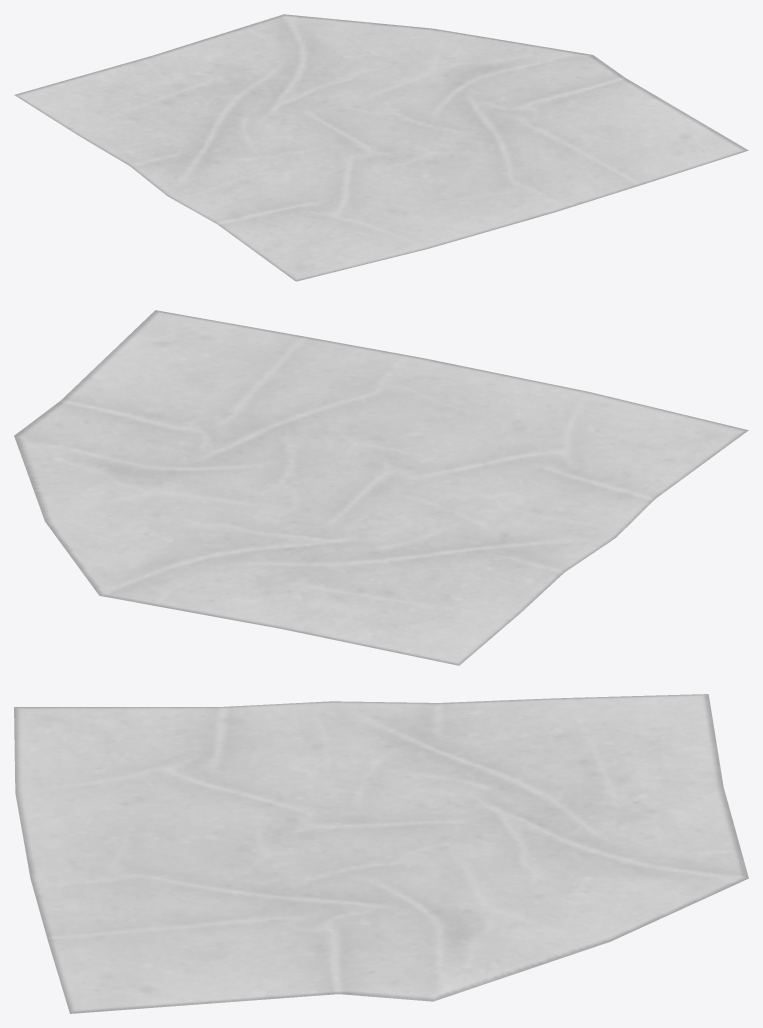
File: Pfb_Canvas_Ground_2x2__6.fbx
3 renders of one model, top to bottom at view 1: azimuth 30°, elevation 25°; view 2: azimuth 150°, elevation 25°; view 3: azimuth 270°, elevation 25°, orthographic. The views are drawn at different scales.
Visible parts, largest first — view 1: Mat_Canvas_Ground_Dark; view 2: Mat_Canvas_Ground_Dark; view 3: Mat_Canvas_Ground_Dark.
Boxes of the visible parts, x1,y1,x2,y2 form: Mat_Canvas_Ground_Dark: (14,14,748,281); Mat_Canvas_Ground_Dark: (14,310,748,665); Mat_Canvas_Ground_Dark: (14,694,748,1013).
Size of the model in its own units: 2.05 by 0.0161 by 1.99.
1 material, 1 textured.
